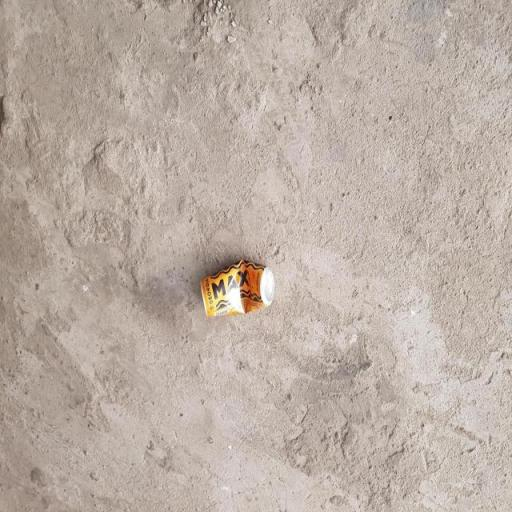metal: (160, 228, 325, 394)
